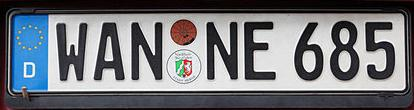5: (363, 19, 397, 81)
6: (293, 21, 325, 82)
8: (329, 19, 361, 81)
A: (93, 21, 126, 83)
E: (243, 19, 277, 81)
N: (129, 20, 164, 83), (205, 19, 239, 81)
W: (54, 21, 89, 82)
